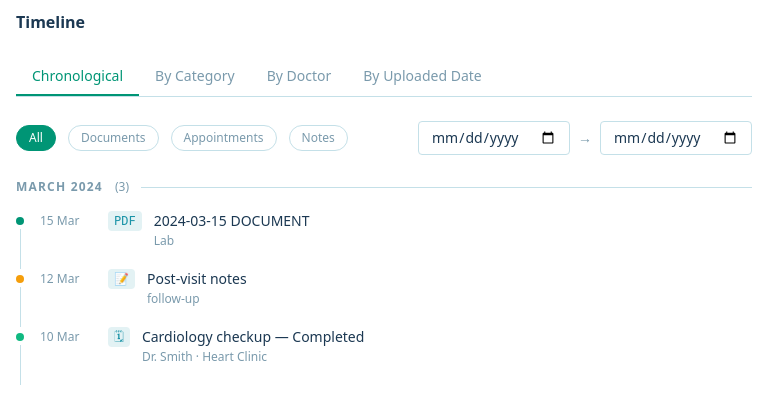
Test case: TimelinePage › shows clear button when date range set and clears on click
Type "2024-01-01" into the date field titled "From date". click: (494, 138)
box: [418,121,570,155]
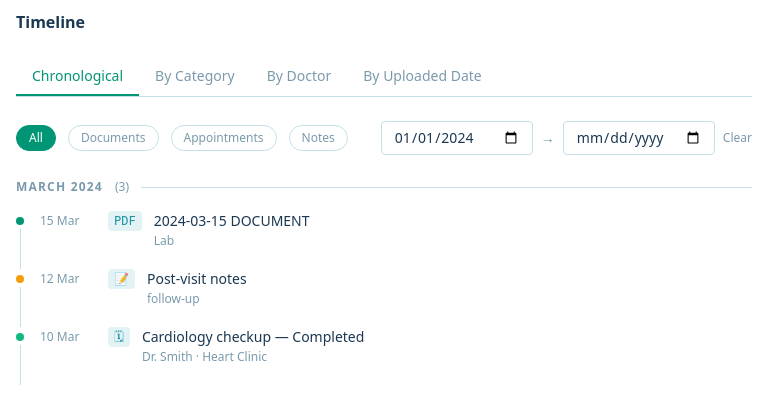
Check: the button "Clear" is shown
Click the button "Clear". click: (737, 138)
box: [723,130,752,146]
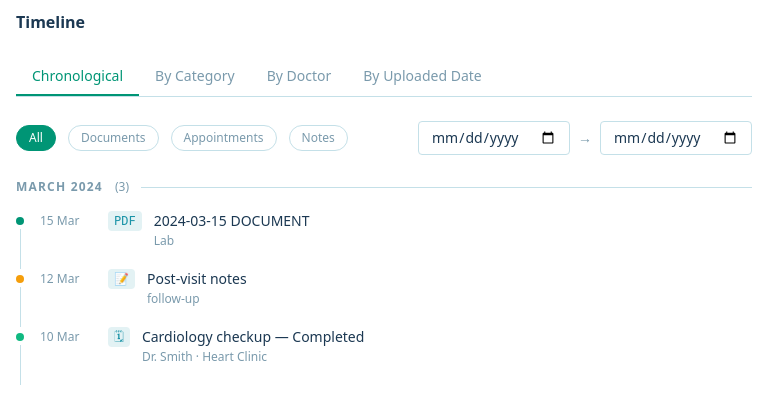
Check: the button "Clear" is gone
